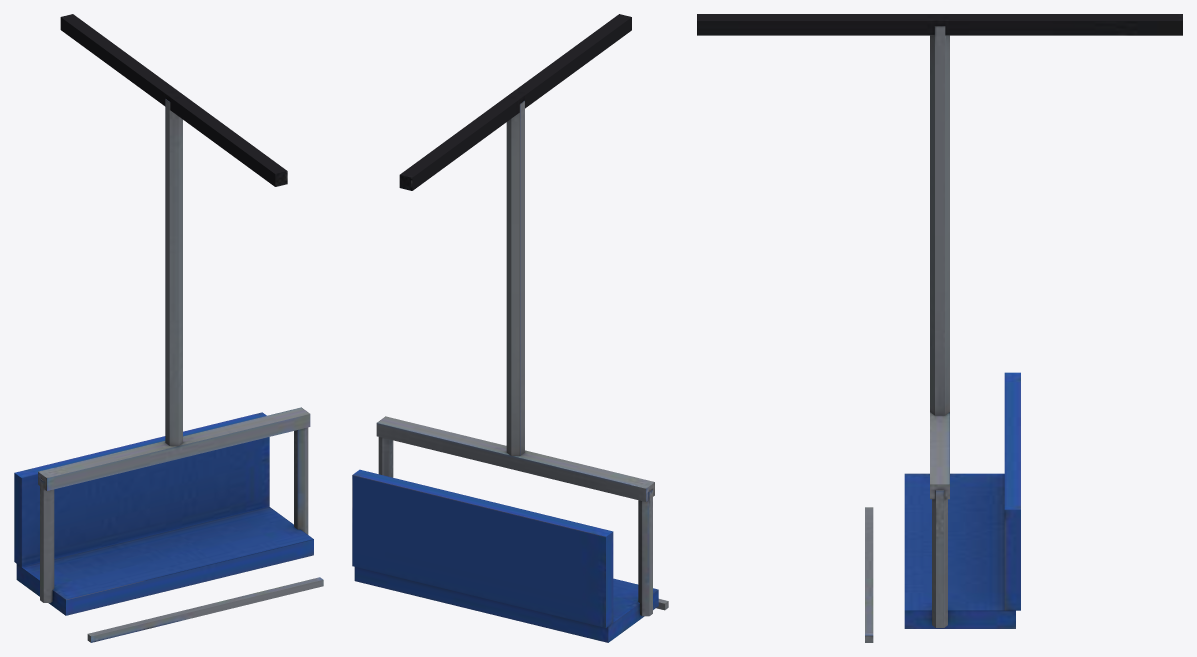
File: telesilla.glb
3 views of the same model, side by side, from view 1: azimuth 30°, elevation 25°; view 2: azimuth 150°, elevation 25°; view 3: azimuth 270°, elevation 25° (orthographic). The views are drawn at different scales.
Visible parts, largest first — view 1: telesilla; view 2: telesilla; view 3: telesilla.
Part boxes in pixels (left/top/right/bottom): telesilla: left=14, top=14, right=323, bottom=642; telesilla: left=352, top=14, right=668, bottom=642; telesilla: left=697, top=14, right=1182, bottom=642.
Bounding box in the file's own units: 1.71 × 3.06 × 2.4.
1 material, 1 textured.
